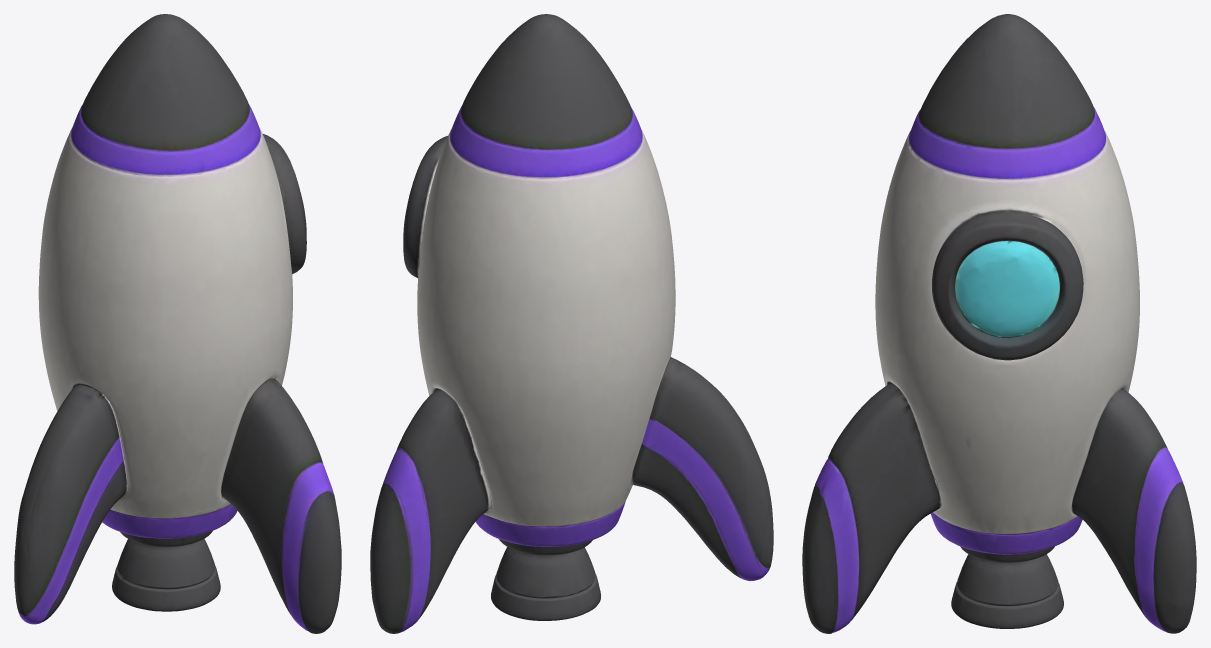
Rendered from rocket.glb.
3 renders of one model, left to right at view 1: azimuth 30°, elevation 25°; view 2: azimuth 150°, elevation 25°; view 3: azimuth 270°, elevation 25°, orthographic. The views are drawn at different scales.
Parts seen in each view (by area): view 1: tripo_node_d30266c1-47ef-4294-97ea-1ed8a9c12063; view 2: tripo_node_d30266c1-47ef-4294-97ea-1ed8a9c12063; view 3: tripo_node_d30266c1-47ef-4294-97ea-1ed8a9c12063.
Boxes of the visible parts, left/top/right/bottom form: tripo_node_d30266c1-47ef-4294-97ea-1ed8a9c12063: left=14, top=14, right=341, bottom=633; tripo_node_d30266c1-47ef-4294-97ea-1ed8a9c12063: left=370, top=14, right=773, bottom=633; tripo_node_d30266c1-47ef-4294-97ea-1ed8a9c12063: left=802, top=14, right=1196, bottom=633.
Bounding box in the file's own units: 0.5585 × 1 × 0.6054.
1 material, 1 textured.
